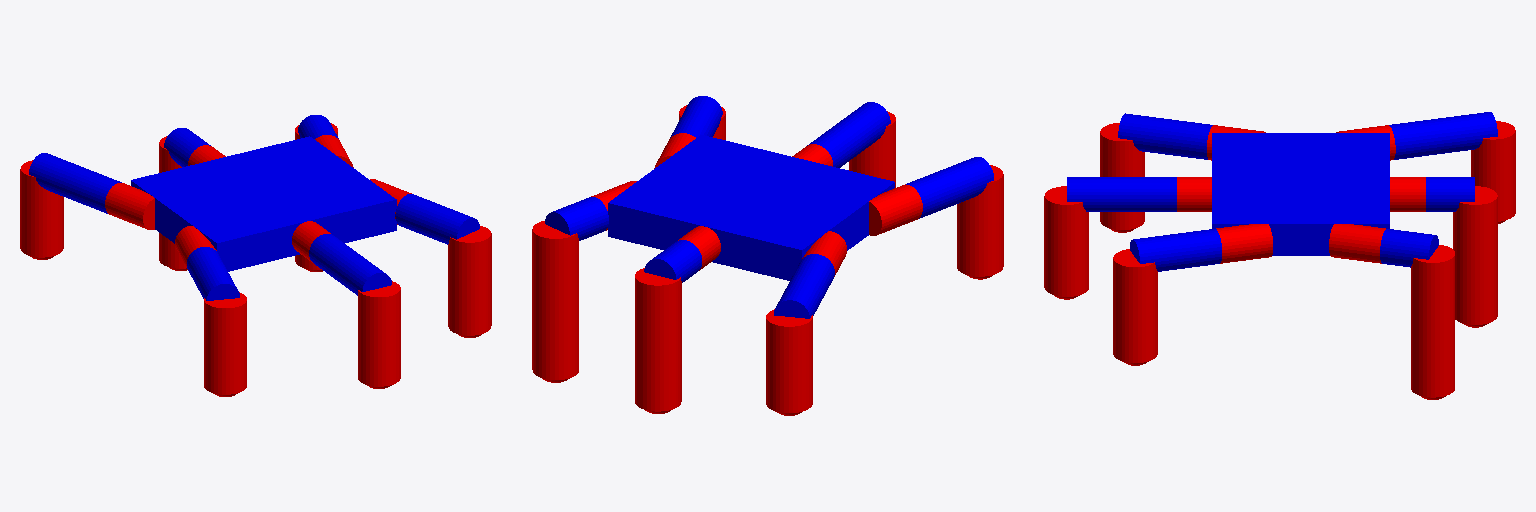
--- Facts derived from the render (not from the file) ---
3 views of the same robot in one strip: view 1: azimuth 30°, elevation 25°; view 2: azimuth 150°, elevation 25°; view 3: azimuth 270°, elevation 25° (orthographic).
Robot: pexod — 19 links, 18 joints (18 revolute); root link base_link; default pose: every joint at zero.
Links seen in each view (by area): view 1: base_link, leg_3_3, leg_4_3, leg_5_3, leg_0_3, leg_0_2, leg_4_2, leg_3_2, leg_5_2, leg_0_1, leg_1_3, leg_1_2 (+3 smaller); view 2: base_link, leg_2_3, leg_1_3, leg_0_3, leg_5_3, leg_5_2, leg_4_2, leg_0_2, leg_5_1, leg_2_2, leg_4_3, leg_1_2 (+3 smaller); view 3: base_link, leg_2_3, leg_1_3, leg_3_3, leg_4_3, leg_4_2, leg_0_2, leg_5_2, leg_0_3, leg_3_2, leg_5_3, leg_3_1 (+5 smaller).
Link boxes in pixels (box(x1,y1,x2,y2)): base_link: box(131, 136, 396, 271); leg_3_3: box(448, 226, 491, 337); leg_4_3: box(358, 281, 400, 388); leg_5_3: box(204, 292, 246, 396); leg_0_3: box(20, 160, 63, 259); leg_0_2: box(29, 153, 121, 213); leg_4_2: box(309, 234, 391, 295); leg_3_2: box(395, 194, 479, 244); leg_5_2: box(187, 247, 239, 300); leg_0_1: box(105, 183, 154, 229); leg_1_3: box(159, 136, 187, 270); leg_1_2: box(164, 128, 210, 166); base_link: box(608, 135, 894, 280); leg_2_3: box(532, 221, 578, 382); leg_1_3: box(635, 268, 681, 413); leg_0_3: box(766, 309, 812, 415); leg_5_3: box(957, 165, 1003, 279); leg_5_2: box(906, 157, 993, 218); leg_4_2: box(807, 102, 890, 167); leg_0_2: box(774, 254, 834, 318); leg_5_1: box(869, 184, 922, 235); leg_2_2: box(545, 197, 608, 240); leg_4_3: box(849, 111, 895, 187); leg_1_2: box(644, 240, 701, 282); base_link: box(1212, 133, 1389, 255); leg_2_3: box(1411, 245, 1454, 399); leg_1_3: box(1453, 186, 1497, 327); leg_3_3: box(1113, 249, 1157, 365); leg_4_3: box(1044, 186, 1088, 299); leg_4_2: box(1067, 177, 1176, 211); leg_0_2: box(1389, 112, 1497, 159); leg_5_2: box(1118, 113, 1212, 159); leg_0_3: box(1471, 121, 1515, 223); leg_3_2: box(1130, 229, 1221, 271); leg_5_3: box(1100, 123, 1144, 232); leg_3_1: box(1216, 224, 1272, 263).
Size in the robot's own frame: 0.3894 by 0.5291 by 0.1994 metres.
Geometry: primitives only (box / cylinder / sphere), no mesh files.

URDF robot description (pexod):
<?xml version="1.0" ?>
<!-- =================================================================================== -->
<!-- |    This document was autogenerated by xacro from pexod.xacro                    | -->
<!-- |    EDITING THIS FILE BY HAND IS NOT RECOMMENDED                                 | -->
<!-- =================================================================================== -->
<robot name="pexod" xmlns:xacro="http://www.ros.org/wiki/xacro">
  <!-- <xacro:include filename="$(find pexod_description)/urdf/pexod_control.xacro" /> -->
  <!-- MATERIALS -->
  <material name="Blue">
    <color rgba="0 0 1 1"/>
  </material>
  <material name="Red">
    <color rgba="1 0 0 1"/>
  </material>
  <material name="Green">
    <color rgba="0 1 0 1"/>
  </material>
  <material name="Yellow">
    <color rgba="1 1 0 1"/>
  </material>
  <material name="LightGrey">
    <color rgba="0.6 0.6 0.6 1.0"/>
  </material>
  <!-- END OF MATERIALS -->
  <!-- XACRO MACROS FOR VISUALS AND COLLISIONS -->
  <!-- END OF XACRO MACROS -->
  <!-- TORSO -->
  <link name="base_link">
    <visual>
      <origin rpy="0 0 0" xyz="0 0 0"/>
      <geometry>
        <box size="0.24 0.2 0.04"/>
      </geometry>
      <material name="Blue"/>
    </visual>
    <collision>
      <origin rpy="0 0 0" xyz="0 0 0"/>
      <geometry>
        <box size="0.24 0.2 0.04"/>
      </geometry>
    </collision>
    <inertial>
      <!-- CENTER OF MASS -->
      <origin rpy="0 0 0" xyz="0 0 0"/>
      <mass value="1.031"/>
      <!-- box inertia: 1/12*m(y^2+z^2), ... -->
      <inertia ixx="0.00357413333333" ixy="0" ixz="0" iyy="0.00508626666667" iyz="0" izz="0.00838546666667"/>
    </inertial>
  </link>
  <!-- XACRO MACRO FOR LEGS LINKS/JOINTS -->
  <!-- END OF LEG LINKS/JOINTS -->
  <joint name="body_leg_2" type="revolute">
    <parent link="base_link"/>
    <child link="leg_2_1"/>
    <limit effort="30.0" lower="-1.57079632679" upper="1.57079632679" velocity="7.0"/>
    <origin rpy="0 0 -0.3" xyz="0.11 0.04 0"/>
    <!-- <xacro:if value="${index == 5 or index == 4 or index == 3}">
                <axis xyz="0 0 1"/>
            </xacro:if>
            <xacro:if value="${index == 2 or index == 1 or index == 0}"> -->
    <axis xyz="0 0 1"/>
    <!-- </xacro:if> -->
    <dynamics damping="0.0"/>
  </joint>
  <link name="leg_2_1">
    <visual>
      <origin rpy="1.57079632679 0 0" xyz="0.01 0.03 0"/>
      <geometry>
        <cylinder length="0.06" radius="0.02"/>
      </geometry>
      <material name="Red"/>
    </visual>
    <collision>
      <origin rpy="1.57079632679 0 0" xyz="0.01 0.03 0"/>
      <geometry>
        <box size="0.02 0.02 0.06"/>
      </geometry>
    </collision>
    <inertial>
      <!-- CENTER OF MASS -->
      <origin rpy="1.57079632679 0 0" xyz="0.01 0.03 0"/>
      <mass value="0.02"/>
      <!-- box inertia: 1/12*m(y^2+z^2), ... -->
      <inertia ixx="6.66666666667e-06" ixy="0" ixz="0" iyy="6.66666666667e-06" iyz="0" izz="1.33333333333e-06"/>
    </inertial>
  </link>
  <joint name="leg_2_1_2" type="revolute">
    <parent link="leg_2_1"/>
    <child link="leg_2_2"/>
    <limit effort="30.0" lower="-0.78539816339" upper="0.78539816339" velocity="7.0"/>
    <origin rpy="0 0 0" xyz="0 0.06 0"/>
    <axis xyz="1 0 0"/>
    <dynamics damping="0.0"/>
  </joint>
  <link name="leg_2_2">
    <visual>
      <origin rpy="1.57079632679 0 0" xyz="0.01 0.0285932682323 0"/>
      <geometry>
        <cylinder length="0.0571865364646" radius="0.02"/>
      </geometry>
      <material name="Blue"/>
    </visual>
    <collision>
      <origin rpy="1.57079632679 0 0" xyz="0.01 0.0285932682323 0"/>
      <geometry>
        <box size="0.02 0.02 0.0571865364646"/>
      </geometry>
    </collision>
    <inertial>
      <!-- CENTER OF MASS -->
      <origin rpy="1.57079632679 0 0" xyz="0.01 0.0285932682323 0"/>
      <mass value="0.184"/>
      <!-- box inertia: 1/12*m(y^2+z^2), ... -->
      <inertia ixx="5.62779326099e-05" ixy="0" ixz="0" iyy="5.62779326099e-05" iyz="0" izz="1.22666666667e-05"/>
    </inertial>
  </link>
  <joint name="leg_2_2_3" type="revolute">
    <parent link="leg_2_2"/>
    <child link="leg_2_3"/>
    <limit effort="30.0" lower="-0.78539816339" upper="0.78539816339" velocity="7.0"/>
    <origin rpy="-1.57079632679 0 0" xyz="0 0.0571865364646 0"/>
    <axis xyz="-1 0 0"/>
    <dynamics damping="0.0"/>
  </joint>
  <link name="leg_2_3">
    <visual>
      <origin rpy="1.57079632679 0 0" xyz="0.0125 0.0834390792395 0"/>
      <geometry>
        <cylinder length="0.166878158479" radius="0.025"/>
      </geometry>
      <material name="Red"/>
    </visual>
    <visual>
      <origin rpy="1.57079632679 0 0" xyz="0.0125 0.154378158479 0"/>
      <geometry>
        <sphere radius="0.025"/>
      </geometry>
      <material name="Red"/>
    </visual>
    <collision>
      <origin rpy="1.57079632679 0 0" xyz="0.0125 0.0834390792395 0"/>
      <geometry>
        <box size="0.025 0.025 0.166878158479"/>
      </geometry>
    </collision>
    <collision>
      <origin rpy="1.57079632679 0 0" xyz="0.0125 0.154378158479 0"/>
      <geometry>
        <sphere radius="0.025"/>
      </geometry>
      <material name="Red"/>
    </collision>
    <inertial>
      <!-- CENTER OF MASS -->
      <origin rpy="1.57079632679 0 0" xyz="0.0125 0.0834390792395 0"/>
      <mass value="0.04"/>
      <!-- box inertia: 1/12*m(y^2+z^2), ... -->
      <inertia ixx="9.49110659245e-05" ixy="0" ixz="0" iyy="9.49110659245e-05" iyz="0" izz="4.16666666667e-06"/>
    </inertial>
  </link>
  <joint name="body_leg_3" type="revolute">
    <parent link="base_link"/>
    <child link="leg_3_1"/>
    <limit effort="30.0" lower="-1.57079632679" upper="1.57079632679" velocity="7.0"/>
    <origin rpy="0 0 0.3" xyz="0.11 -0.04 0"/>
    <!-- <xacro:if value="${index == 5 or index == 4 or index == 3}">
                <axis xyz="0 0 1"/>
            </xacro:if>
            <xacro:if value="${index == 2 or index == 1 or index == 0}"> -->
    <axis xyz="0 0 1"/>
    <!-- </xacro:if> -->
    <dynamics damping="0.0"/>
  </joint>
  <link name="leg_3_1">
    <visual>
      <origin rpy="1.57079632679 0 0" xyz="0.01 -0.03 0"/>
      <geometry>
        <cylinder length="0.06" radius="0.02"/>
      </geometry>
      <material name="Red"/>
    </visual>
    <collision>
      <origin rpy="1.57079632679 0 0" xyz="0.01 -0.03 0"/>
      <geometry>
        <box size="0.02 0.02 0.06"/>
      </geometry>
    </collision>
    <inertial>
      <!-- CENTER OF MASS -->
      <origin rpy="1.57079632679 0 0" xyz="0.01 -0.03 0"/>
      <mass value="0.02"/>
      <!-- box inertia: 1/12*m(y^2+z^2), ... -->
      <inertia ixx="6.66666666667e-06" ixy="0" ixz="0" iyy="6.66666666667e-06" iyz="0" izz="1.33333333333e-06"/>
    </inertial>
  </link>
  <joint name="leg_3_1_2" type="revolute">
    <parent link="leg_3_1"/>
    <child link="leg_3_2"/>
    <limit effort="30.0" lower="-0.78539816339" upper="0.78539816339" velocity="7.0"/>
    <origin rpy="0 0 0" xyz="0 -0.06 0"/>
    <axis xyz="-1 0 0"/>
    <dynamics damping="0.0"/>
  </joint>
  <link name="leg_3_2">
    <visual>
      <origin rpy="1.57079632679 0 0" xyz="0.01 -0.0483873566711 0"/>
      <geometry>
        <cylinder length="0.0967747133422" radius="0.02"/>
      </geometry>
      <material name="Blue"/>
    </visual>
    <collision>
      <origin rpy="1.57079632679 0 0" xyz="0.01 -0.0483873566711 0"/>
      <geometry>
        <box size="0.02 0.02 0.0967747133422"/>
      </geometry>
    </collision>
    <inertial>
      <!-- CENTER OF MASS -->
      <origin rpy="1.57079632679 0 0" xyz="0.01 -0.0483873566711 0"/>
      <mass value="0.184"/>
      <!-- box inertia: 1/12*m(y^2+z^2), ... -->
      <inertia ixx="0.000149735292184" ixy="0" ixz="0" iyy="0.000149735292184" iyz="0" izz="1.22666666667e-05"/>
    </inertial>
  </link>
  <joint name="leg_3_2_3" type="revolute">
    <parent link="leg_3_2"/>
    <child link="leg_3_3"/>
    <limit effort="30.0" lower="-0.78539816339" upper="0.78539816339" velocity="7.0"/>
    <origin rpy="1.57079632679 0 0" xyz="0 -0.0967747133422 0"/>
    <axis xyz="1 0 0"/>
    <dynamics damping="0.0"/>
  </joint>
  <link name="leg_3_3">
    <visual>
      <origin rpy="1.57079632679 0 0" xyz="0.0125 -0.0593747330765 0"/>
      <geometry>
        <cylinder length="0.118749466153" radius="0.025"/>
      </geometry>
      <material name="Red"/>
    </visual>
    <visual>
      <origin rpy="1.57079632679 0 0" xyz="0.0125 -0.106249466153 0"/>
      <geometry>
        <sphere radius="0.025"/>
      </geometry>
      <material name="Red"/>
    </visual>
    <collision>
      <origin rpy="1.57079632679 0 0" xyz="0.0125 -0.0593747330765 0"/>
      <geometry>
        <box size="0.025 0.025 0.118749466153"/>
      </geometry>
    </collision>
    <collision>
      <origin rpy="1.57079632679 0 0" xyz="0.0125 -0.106249466153 0"/>
      <geometry>
        <sphere radius="0.025"/>
      </geometry>
      <material name="Red"/>
    </collision>
    <inertial>
      <!-- CENTER OF MASS -->
      <origin rpy="1.57079632679 0 0" xyz="0.0125 -0.0593747330765 0"/>
      <mass value="0.04"/>
      <!-- box inertia: 1/12*m(y^2+z^2), ... -->
      <inertia ixx="4.90881190387e-05" ixy="0" ixz="0" iyy="4.90881190387e-05" iyz="0" izz="4.16666666667e-06"/>
    </inertial>
  </link>
  <joint name="body_leg_0" type="revolute">
    <parent link="base_link"/>
    <child link="leg_0_1"/>
    <limit effort="30.0" lower="-1.57079632679" upper="1.57079632679" velocity="7.0"/>
    <origin rpy="0 0 0.3" xyz="-0.13 0.04 0"/>
    <!-- <xacro:if value="${index == 5 or index == 4 or index == 3}">
                <axis xyz="0 0 1"/>
            </xacro:if>
            <xacro:if value="${index == 2 or index == 1 or index == 0}"> -->
    <axis xyz="0 0 1"/>
    <!-- </xacro:if> -->
    <dynamics damping="0.0"/>
  </joint>
  <link name="leg_0_1">
    <visual>
      <origin rpy="1.57079632679 0 0" xyz="0.01 0.03 0"/>
      <geometry>
        <cylinder length="0.06" radius="0.02"/>
      </geometry>
      <material name="Red"/>
    </visual>
    <collision>
      <origin rpy="1.57079632679 0 0" xyz="0.01 0.03 0"/>
      <geometry>
        <box size="0.02 0.02 0.06"/>
      </geometry>
    </collision>
    <inertial>
      <!-- CENTER OF MASS -->
      <origin rpy="1.57079632679 0 0" xyz="0.01 0.03 0"/>
      <mass value="0.02"/>
      <!-- box inertia: 1/12*m(y^2+z^2), ... -->
      <inertia ixx="6.66666666667e-06" ixy="0" ixz="0" iyy="6.66666666667e-06" iyz="0" izz="1.33333333333e-06"/>
    </inertial>
  </link>
  <joint name="leg_0_1_2" type="revolute">
    <parent link="leg_0_1"/>
    <child link="leg_0_2"/>
    <limit effort="30.0" lower="-0.78539816339" upper="0.78539816339" velocity="7.0"/>
    <origin rpy="0 0 0" xyz="0 0.06 0"/>
    <axis xyz="1 0 0"/>
    <dynamics damping="0.0"/>
  </joint>
  <link name="leg_0_2">
    <visual>
      <origin rpy="1.57079632679 0 0" xyz="0.01 0.060104878275 0"/>
      <geometry>
        <cylinder length="0.12020975655" radius="0.02"/>
      </geometry>
      <material name="Blue"/>
    </visual>
    <collision>
      <origin rpy="1.57079632679 0 0" xyz="0.01 0.060104878275 0"/>
      <geometry>
        <box size="0.02 0.02 0.12020975655"/>
      </geometry>
    </collision>
    <inertial>
      <!-- CENTER OF MASS -->
      <origin rpy="1.57079632679 0 0" xyz="0.01 0.060104878275 0"/>
      <mass value="0.184"/>
      <!-- box inertia: 1/12*m(y^2+z^2), ... -->
      <inertia ixx="0.00022770591207" ixy="0" ixz="0" iyy="0.00022770591207" iyz="0" izz="1.22666666667e-05"/>
    </inertial>
  </link>
  <joint name="leg_0_2_3" type="revolute">
    <parent link="leg_0_2"/>
    <child link="leg_0_3"/>
    <limit effort="30.0" lower="-0.78539816339" upper="0.78539816339" velocity="7.0"/>
    <origin rpy="-1.57079632679 0 0" xyz="0 0.12020975655 0"/>
    <axis xyz="-1 0 0"/>
    <dynamics damping="0.0"/>
  </joint>
  <link name="leg_0_3">
    <visual>
      <origin rpy="1.57079632679 0 0" xyz="0.0125 0.0510767217655 0"/>
      <geometry>
        <cylinder length="0.102153443531" radius="0.025"/>
      </geometry>
      <material name="Red"/>
    </visual>
    <visual>
      <origin rpy="1.57079632679 0 0" xyz="0.0125 0.089653443531 0"/>
      <geometry>
        <sphere radius="0.025"/>
      </geometry>
      <material name="Red"/>
    </visual>
    <collision>
      <origin rpy="1.57079632679 0 0" xyz="0.0125 0.0510767217655 0"/>
      <geometry>
        <box size="0.025 0.025 0.102153443531"/>
      </geometry>
    </collision>
    <collision>
      <origin rpy="1.57079632679 0 0" xyz="0.0125 0.089653443531 0"/>
      <geometry>
        <sphere radius="0.025"/>
      </geometry>
      <material name="Red"/>
    </collision>
    <inertial>
      <!-- CENTER OF MASS -->
      <origin rpy="1.57079632679 0 0" xyz="0.0125 0.0510767217655 0"/>
      <mass value="0.04"/>
      <!-- box inertia: 1/12*m(y^2+z^2), ... -->
      <inertia ixx="3.68677534175e-05" ixy="0" ixz="0" iyy="3.68677534175e-05" iyz="0" izz="4.16666666667e-06"/>
    </inertial>
  </link>
  <joint name="body_leg_5" type="revolute">
    <parent link="base_link"/>
    <child link="leg_5_1"/>
    <limit effort="30.0" lower="-1.57079632679" upper="1.57079632679" velocity="7.0"/>
    <origin rpy="0 0 -0.3" xyz="-0.13 -0.04 0"/>
    <!-- <xacro:if value="${index == 5 or index == 4 or index == 3}">
                <axis xyz="0 0 1"/>
            </xacro:if>
            <xacro:if value="${index == 2 or index == 1 or index == 0}"> -->
    <axis xyz="0 0 1"/>
    <!-- </xacro:if> -->
    <dynamics damping="0.0"/>
  </joint>
  <link name="leg_5_1">
    <visual>
      <origin rpy="1.57079632679 0 0" xyz="0.01 -0.03 0"/>
      <geometry>
        <cylinder length="0.06" radius="0.02"/>
      </geometry>
      <material name="Red"/>
    </visual>
    <collision>
      <origin rpy="1.57079632679 0 0" xyz="0.01 -0.03 0"/>
      <geometry>
        <box size="0.02 0.02 0.06"/>
      </geometry>
    </collision>
    <inertial>
      <!-- CENTER OF MASS -->
      <origin rpy="1.57079632679 0 0" xyz="0.01 -0.03 0"/>
      <mass value="0.02"/>
      <!-- box inertia: 1/12*m(y^2+z^2), ... -->
      <inertia ixx="6.66666666667e-06" ixy="0" ixz="0" iyy="6.66666666667e-06" iyz="0" izz="1.33333333333e-06"/>
    </inertial>
  </link>
  <joint name="leg_5_1_2" type="revolute">
    <parent link="leg_5_1"/>
    <child link="leg_5_2"/>
    <limit effort="30.0" lower="-0.78539816339" upper="0.78539816339" velocity="7.0"/>
    <origin rpy="0 0 0" xyz="0 -0.06 0"/>
    <axis xyz="-1 0 0"/>
    <dynamics damping="0.0"/>
  </joint>
  <link name="leg_5_2">
    <visual>
      <origin rpy="1.57079632679 0 0" xyz="0.01 -0.052143512131 0"/>
      <geometry>
        <cylinder length="0.104287024262" radius="0.02"/>
      </geometry>
      <material name="Blue"/>
    </visual>
    <collision>
      <origin rpy="1.57079632679 0 0" xyz="0.01 -0.052143512131 0"/>
      <geometry>
        <box size="0.02 0.02 0.104287024262"/>
      </geometry>
    </collision>
    <inertial>
      <!-- CENTER OF MASS -->
      <origin rpy="1.57079632679 0 0" xyz="0.01 -0.052143512131 0"/>
      <mass value="0.184"/>
      <!-- box inertia: 1/12*m(y^2+z^2), ... -->
      <inertia ixx="0.000172895345918" ixy="0" ixz="0" iyy="0.000172895345918" iyz="0" izz="1.22666666667e-05"/>
    </inertial>
  </link>
  <joint name="leg_5_2_3" type="revolute">
    <parent link="leg_5_2"/>
    <child link="leg_5_3"/>
    <limit effort="30.0" lower="-0.78539816339" upper="0.78539816339" velocity="7.0"/>
    <origin rpy="1.57079632679 0 0" xyz="0 -0.104287024262 0"/>
    <axis xyz="1 0 0"/>
    <dynamics damping="0.0"/>
  </joint>
  <link name="leg_5_3">
    <visual>
      <origin rpy="1.57079632679 0 0" xyz="0.0125 -0.055087193831 0"/>
      <geometry>
        <cylinder length="0.110174387662" radius="0.025"/>
      </geometry>
      <material name="Red"/>
    </visual>
    <visual>
      <origin rpy="1.57079632679 0 0" xyz="0.0125 -0.097674387662 0"/>
      <geometry>
        <sphere radius="0.025"/>
      </geometry>
      <material name="Red"/>
    </visual>
    <collision>
      <origin rpy="1.57079632679 0 0" xyz="0.0125 -0.055087193831 0"/>
      <geometry>
        <box size="0.025 0.025 0.110174387662"/>
      </geometry>
    </collision>
    <collision>
      <origin rpy="1.57079632679 0 0" xyz="0.0125 -0.097674387662 0"/>
      <geometry>
        <sphere radius="0.025"/>
      </geometry>
      <material name="Red"/>
    </collision>
    <inertial>
      <!-- CENTER OF MASS -->
      <origin rpy="1.57079632679 0 0" xyz="0.0125 -0.055087193831 0"/>
      <mass value="0.04"/>
      <!-- box inertia: 1/12*m(y^2+z^2), ... -->
      <inertia ixx="4.25446523223e-05" ixy="0" ixz="0" iyy="4.25446523223e-05" iyz="0" izz="4.16666666667e-06"/>
    </inertial>
  </link>
  <joint name="body_leg_1" type="revolute">
    <parent link="base_link"/>
    <child link="leg_1_1"/>
    <limit effort="30.0" lower="-1.57079632679" upper="1.57079632679" velocity="7.0"/>
    <origin rpy="0 0 0" xyz="-0.01 0.08 0"/>
    <!-- <xacro:if value="${index == 5 or index == 4 or index == 3}">
                <axis xyz="0 0 1"/>
            </xacro:if>
            <xacro:if value="${index == 2 or index == 1 or index == 0}"> -->
    <axis xyz="0 0 1"/>
    <!-- </xacro:if> -->
    <dynamics damping="0.0"/>
  </joint>
  <link name="leg_1_1">
    <visual>
      <origin rpy="1.57079632679 0 0" xyz="0.01 0.03 0"/>
      <geometry>
        <cylinder length="0.06" radius="0.02"/>
      </geometry>
      <material name="Red"/>
    </visual>
    <collision>
      <origin rpy="1.57079632679 0 0" xyz="0.01 0.03 0"/>
      <geometry>
        <box size="0.02 0.02 0.06"/>
      </geometry>
    </collision>
    <inertial>
      <!-- CENTER OF MASS -->
      <origin rpy="1.57079632679 0 0" xyz="0.01 0.03 0"/>
      <mass value="0.02"/>
      <!-- box inertia: 1/12*m(y^2+z^2), ... -->
      <inertia ixx="6.66666666667e-06" ixy="0" ixz="0" iyy="6.66666666667e-06" iyz="0" izz="1.33333333333e-06"/>
    </inertial>
  </link>
  <joint name="leg_1_1_2" type="revolute">
    <parent link="leg_1_1"/>
    <child link="leg_1_2"/>
    <limit effort="30.0" lower="-0.78539816339" upper="0.78539816339" velocity="7.0"/>
    <origin rpy="0 0 0" xyz="0 0.06 0"/>
    <axis xyz="1 0 0"/>
    <dynamics damping="0.0"/>
  </joint>
  <link name="leg_1_2">
    <visual>
      <origin rpy="1.57079632679 0 0" xyz="0.01 0.027890482135 0"/>
      <geometry>
        <cylinder length="0.05578096427" radius="0.02"/>
      </geometry>
      <material name="Blue"/>
    </visual>
    <collision>
      <origin rpy="1.57079632679 0 0" xyz="0.01 0.027890482135 0"/>
      <geometry>
        <box size="0.02 0.02 0.05578096427"/>
      </geometry>
    </collision>
    <inertial>
      <!-- CENTER OF MASS -->
      <origin rpy="1.57079632679 0 0" xyz="0.01 0.027890482135 0"/>
      <mass value="0.184"/>
      <!-- box inertia: 1/12*m(y^2+z^2), ... -->
      <inertia ixx="5.38432449483e-05" ixy="0" ixz="0" iyy="5.38432449483e-05" iyz="0" izz="1.22666666667e-05"/>
    </inertial>
  </link>
  <joint name="leg_1_2_3" type="revolute">
    <parent link="leg_1_2"/>
    <child link="leg_1_3"/>
    <limit effort="30.0" lower="-0.78539816339" upper="0.78539816339" velocity="7.0"/>
    <origin rpy="-1.57079632679 0 0" xyz="0 0.05578096427 0"/>
    <axis xyz="-1 0 0"/>
    <dynamics damping="0.0"/>
  </joint>
  <link name="leg_1_3">
    <visual>
      <origin rpy="1.57079632679 0 0" xyz="0.0125 0.0743954496085 0"/>
      <geometry>
        <cylinder length="0.148790899217" radius="0.025"/>
      </geometry>
      <material name="Red"/>
    </visual>
    <visual>
      <origin rpy="1.57079632679 0 0" xyz="0.0125 0.136290899217 0"/>
      <geometry>
        <sphere radius="0.025"/>
      </geometry>
      <material name="Red"/>
    </visual>
    <collision>
      <origin rpy="1.57079632679 0 0" xyz="0.0125 0.0743954496085 0"/>
      <geometry>
        <box size="0.025 0.025 0.148790899217"/>
      </geometry>
    </collision>
    <collision>
      <origin rpy="1.57079632679 0 0" xyz="0.0125 0.136290899217 0"/>
      <geometry>
        <sphere radius="0.025"/>
      </geometry>
      <material name="Red"/>
    </collision>
    <inertial>
      <!-- CENTER OF MASS -->
      <origin rpy="1.57079632679 0 0" xyz="0.0125 0.0743954496085 0"/>
      <mass value="0.04"/>
      <!-- box inertia: 1/12*m(y^2+z^2), ... -->
      <inertia ixx="7.58791056327e-05" ixy="0" ixz="0" iyy="7.58791056327e-05" iyz="0" izz="4.16666666667e-06"/>
    </inertial>
  </link>
  <joint name="body_leg_4" type="revolute">
    <parent link="base_link"/>
    <child link="leg_4_1"/>
    <limit effort="30.0" lower="-1.57079632679" upper="1.57079632679" velocity="7.0"/>
    <origin rpy="0 0 0" xyz="-0.01 -0.08 0"/>
    <!-- <xacro:if value="${index == 5 or index == 4 or index == 3}">
                <axis xyz="0 0 1"/>
            </xacro:if>
            <xacro:if value="${index == 2 or index == 1 or index == 0}"> -->
    <axis xyz="0 0 1"/>
    <!-- </xacro:if> -->
    <dynamics damping="0.0"/>
  </joint>
  <link name="leg_4_1">
    <visual>
      <origin rpy="1.57079632679 0 0" xyz="0.01 -0.03 0"/>
      <geometry>
        <cylinder length="0.06" radius="0.02"/>
      </geometry>
      <material name="Red"/>
    </visual>
    <collision>
      <origin rpy="1.57079632679 0 0" xyz="0.01 -0.03 0"/>
      <geometry>
        <box size="0.02 0.02 0.06"/>
      </geometry>
    </collision>
    <inertial>
      <!-- CENTER OF MASS -->
      <origin rpy="1.57079632679 0 0" xyz="0.01 -0.03 0"/>
      <mass value="0.02"/>
      <!-- box inertia: 1/12*m(y^2+z^2), ... -->
      <inertia ixx="6.66666666667e-06" ixy="0" ixz="0" iyy="6.66666666667e-06" iyz="0" izz="1.33333333333e-06"/>
    </inertial>
  </link>
  <joint name="leg_4_1_2" type="revolute">
    <parent link="leg_4_1"/>
    <child link="leg_4_2"/>
    <limit effort="30.0" lower="-0.78539816339" upper="0.78539816339" velocity="7.0"/>
    <origin rpy="0 0 0" xyz="0 -0.06 0"/>
    <axis xyz="-1 0 0"/>
    <dynamics damping="0.0"/>
  </joint>
  <link name="leg_4_2">
    <visual>
      <origin rpy="1.57079632679 0 0" xyz="0.01 -0.061683539654 0"/>
      <geometry>
        <cylinder length="0.123367079308" radius="0.02"/>
      </geometry>
      <material name="Blue"/>
    </visual>
    <collision>
      <origin rpy="1.57079632679 0 0" xyz="0.01 -0.061683539654 0"/>
      <geometry>
        <box size="0.02 0.02 0.123367079308"/>
      </geometry>
    </collision>
    <inertial>
      <!-- CENTER OF MASS -->
      <origin rpy="1.57079632679 0 0" xyz="0.01 -0.061683539654 0"/>
      <mass value="0.184"/>
      <!-- box inertia: 1/12*m(y^2+z^2), ... -->
      <inertia ixx="0.000239498022607" ixy="0" ixz="0" iyy="0.000239498022607" iyz="0" izz="1.22666666667e-05"/>
    </inertial>
  </link>
  <joint name="leg_4_2_3" type="revolute">
    <parent link="leg_4_2"/>
    <child link="leg_4_3"/>
    <limit effort="30.0" lower="-0.78539816339" upper="0.78539816339" velocity="7.0"/>
    <origin rpy="1.57079632679 0 0" xyz="0 -0.123367079308 0"/>
    <axis xyz="1 0 0"/>
    <dynamics damping="0.0"/>
  </joint>
  <link name="leg_4_3">
    <visual>
      <origin rpy="1.57079632679 0 0" xyz="0.0125 -0.057010135016 0"/>
      <geometry>
        <cylinder length="0.114020270032" radius="0.025"/>
      </geometry>
      <material name="Red"/>
    </visual>
    <visual>
      <origin rpy="1.57079632679 0 0" xyz="0.0125 -0.101520270032 0"/>
      <geometry>
        <sphere radius="0.025"/>
      </geometry>
      <material name="Red"/>
    </visual>
    <collision>
      <origin rpy="1.57079632679 0 0" xyz="0.0125 -0.057010135016 0"/>
      <geometry>
        <box size="0.025 0.025 0.114020270032"/>
      </geometry>
    </collision>
    <collision>
      <origin rpy="1.57079632679 0 0" xyz="0.0125 -0.101520270032 0"/>
      <geometry>
        <sphere radius="0.025"/>
      </geometry>
      <material name="Red"/>
    </collision>
    <inertial>
      <!-- CENTER OF MASS -->
      <origin rpy="1.57079632679 0 0" xyz="0.0125 -0.057010135016 0"/>
      <mass value="0.04"/>
      <!-- box inertia: 1/12*m(y^2+z^2), ... -->
      <inertia ixx="4.54187399272e-05" ixy="0" ixz="0" iyy="4.54187399272e-05" iyz="0" izz="4.16666666667e-06"/>
    </inertial>
  </link>
  <!-- END OF LEG LINKS/JOINTS -->
</robot>
